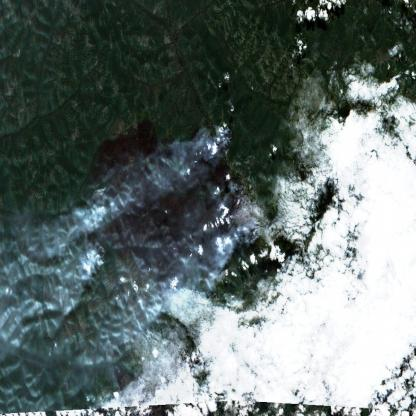fire: (209, 171, 252, 266), (79, 233, 108, 285), (202, 111, 235, 156)
